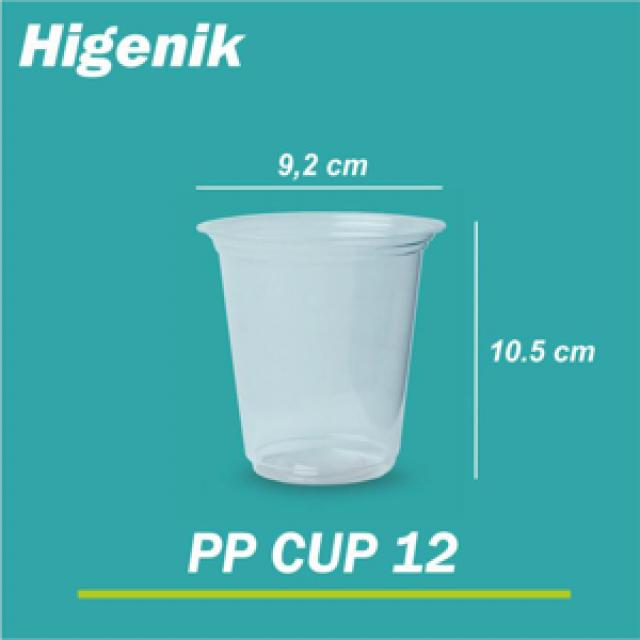plastic cup: (194, 209, 448, 493)
